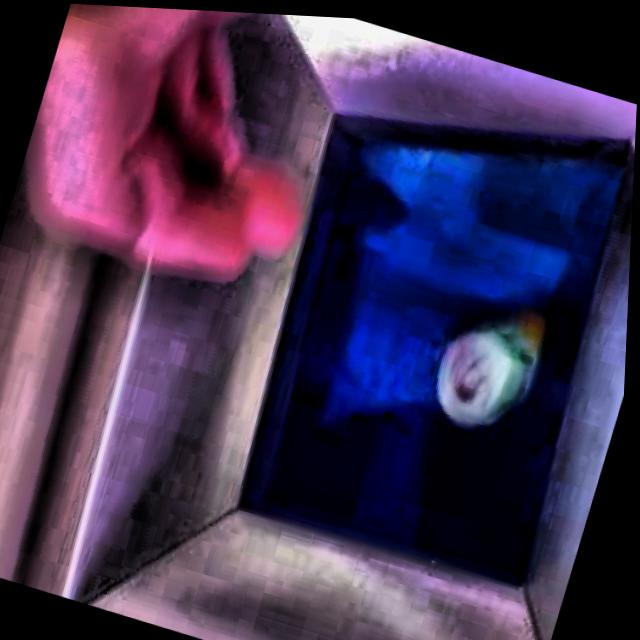metal: (441, 301, 552, 423)
